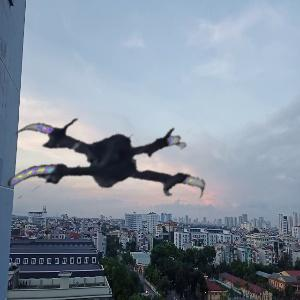drone: (8, 84, 202, 278)
